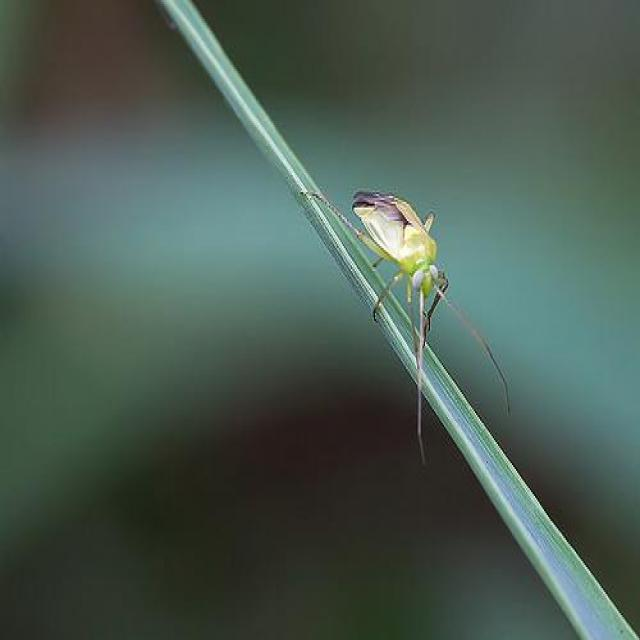Miridae-Adult-: (312, 168, 525, 466)
